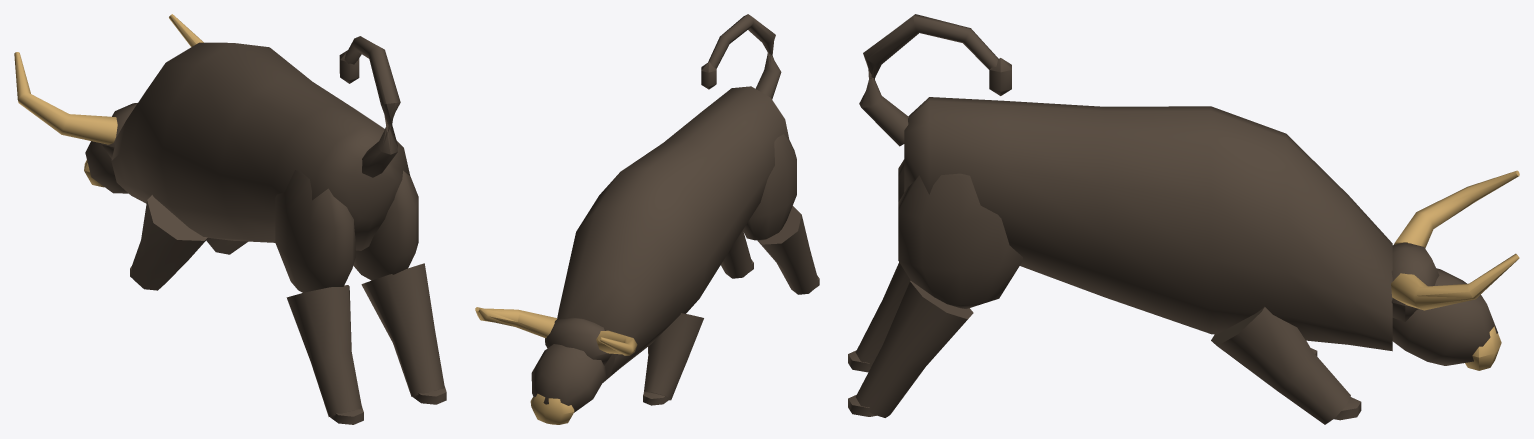
Rendered from nyc-charging-bull.glb.
3 views of the same model, side by side, from view 1: azimuth 30°, elevation 25°; view 2: azimuth 150°, elevation 25°; view 3: azimuth 270°, elevation 25° (orthographic). The views are drawn at different scales.
Parts seen in each view (by area): view 1: Charging Bull; view 2: Charging Bull; view 3: Charging Bull.
Part boxes in pixels (bbox=[...]): Charging Bull: bbox=[14, 14, 446, 424]; Charging Bull: bbox=[475, 14, 819, 424]; Charging Bull: bbox=[848, 14, 1519, 424].
Size of the model in its own units: 1.97 by 3.42 by 5.36.
